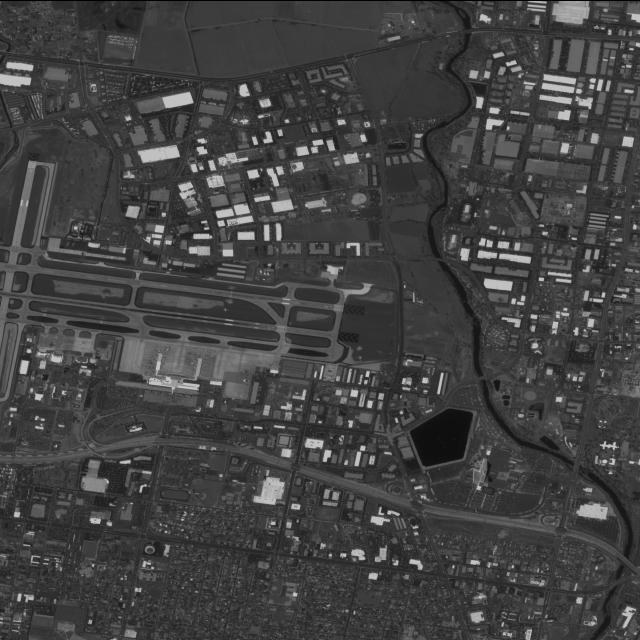plane: (243, 376, 253, 386), (327, 351, 336, 360), (238, 392, 246, 399), (165, 345, 172, 352), (79, 249, 86, 256), (93, 350, 100, 356), (147, 359, 153, 366), (48, 341, 55, 347), (209, 352, 215, 358), (204, 349, 209, 355), (168, 266, 173, 271), (190, 361, 195, 365), (111, 255, 114, 259), (183, 266, 187, 269), (107, 255, 110, 258), (123, 257, 126, 260), (204, 265, 207, 268)
storage-tank: (267, 271, 270, 274), (260, 269, 262, 272), (264, 271, 266, 274)
